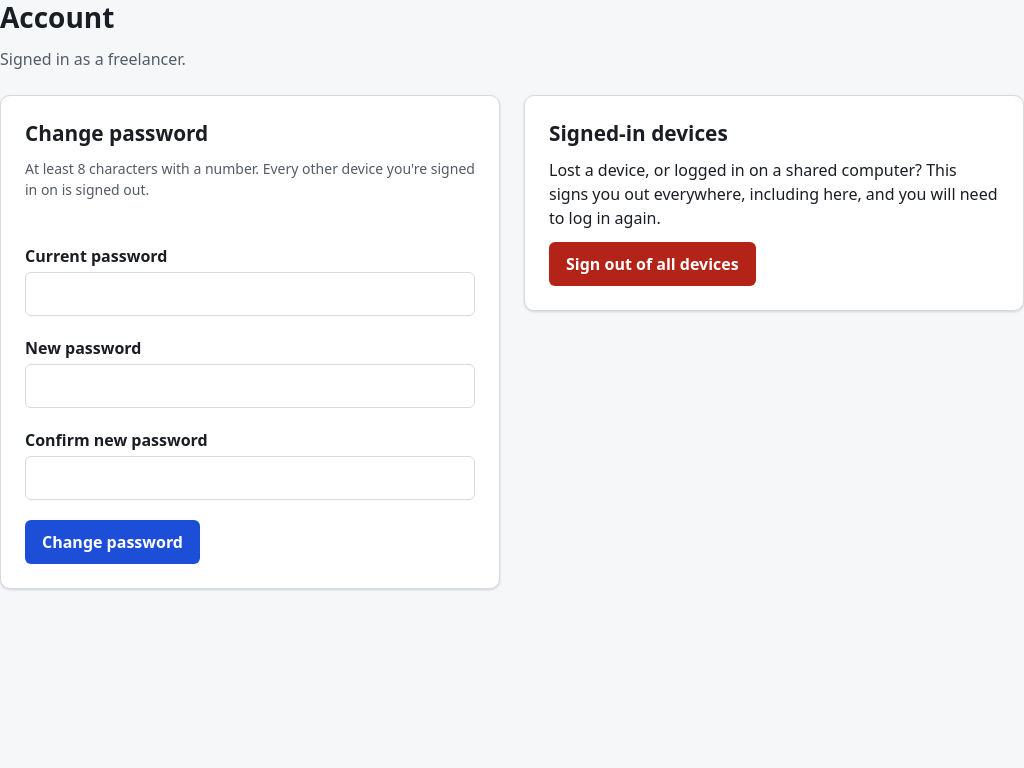
it: Account page - sign out of all devices › shows an error if signing out fails
The width and height of the screenshot is (1024, 768).
Step 1. Click the button "Sign out of all devices" → (652, 264), box [549,242,756,286]
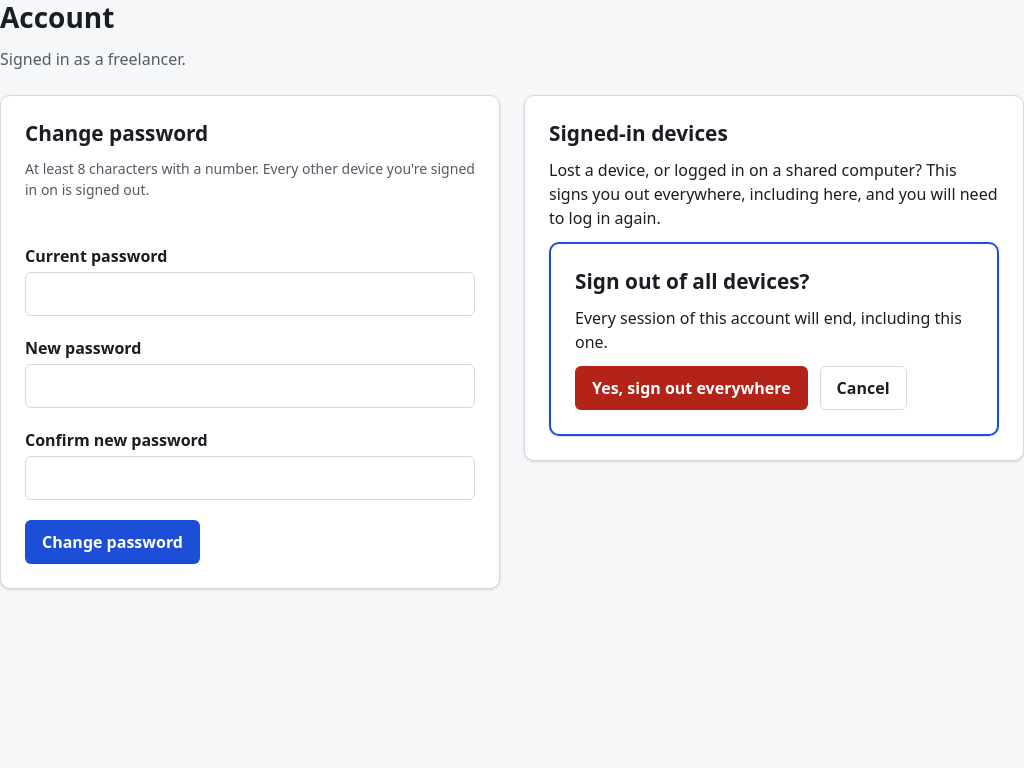
Step 2. Click the button "Yes, sign out everywhere" → (691, 388), box [575,366,808,410]
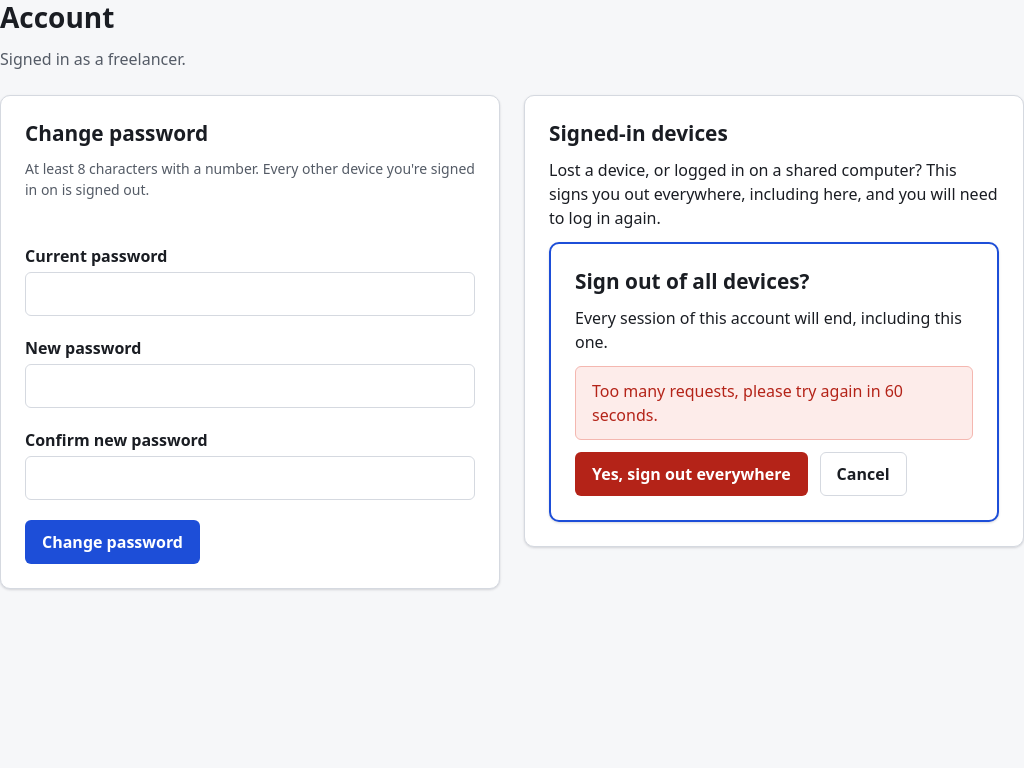
expect the message shows "Too many requests": met, box [592,380,903,426]
